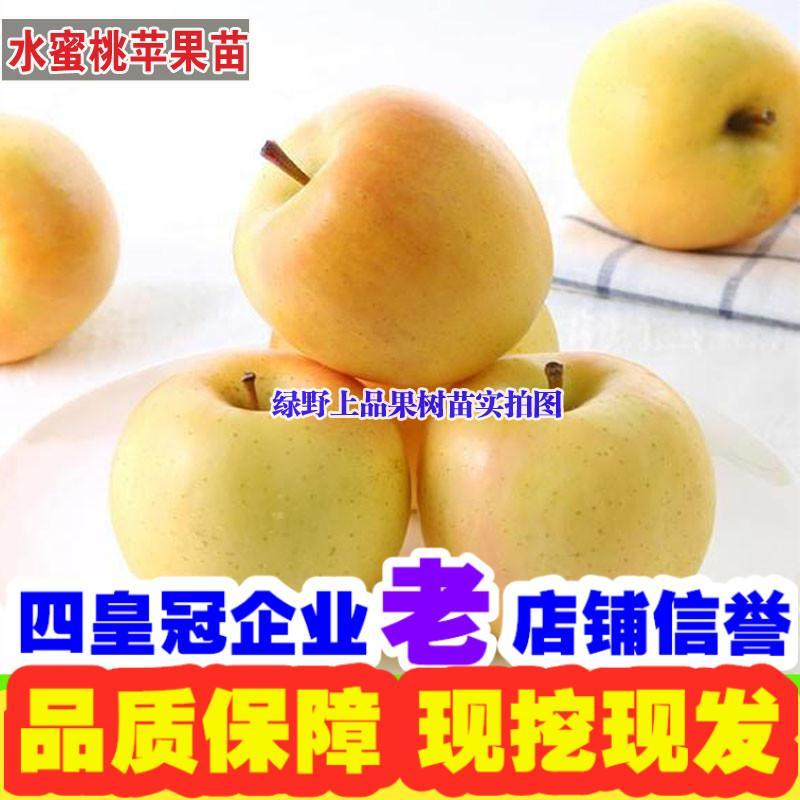apple: (229, 89, 552, 389), (108, 351, 416, 586), (413, 350, 713, 587), (562, 8, 797, 256)
